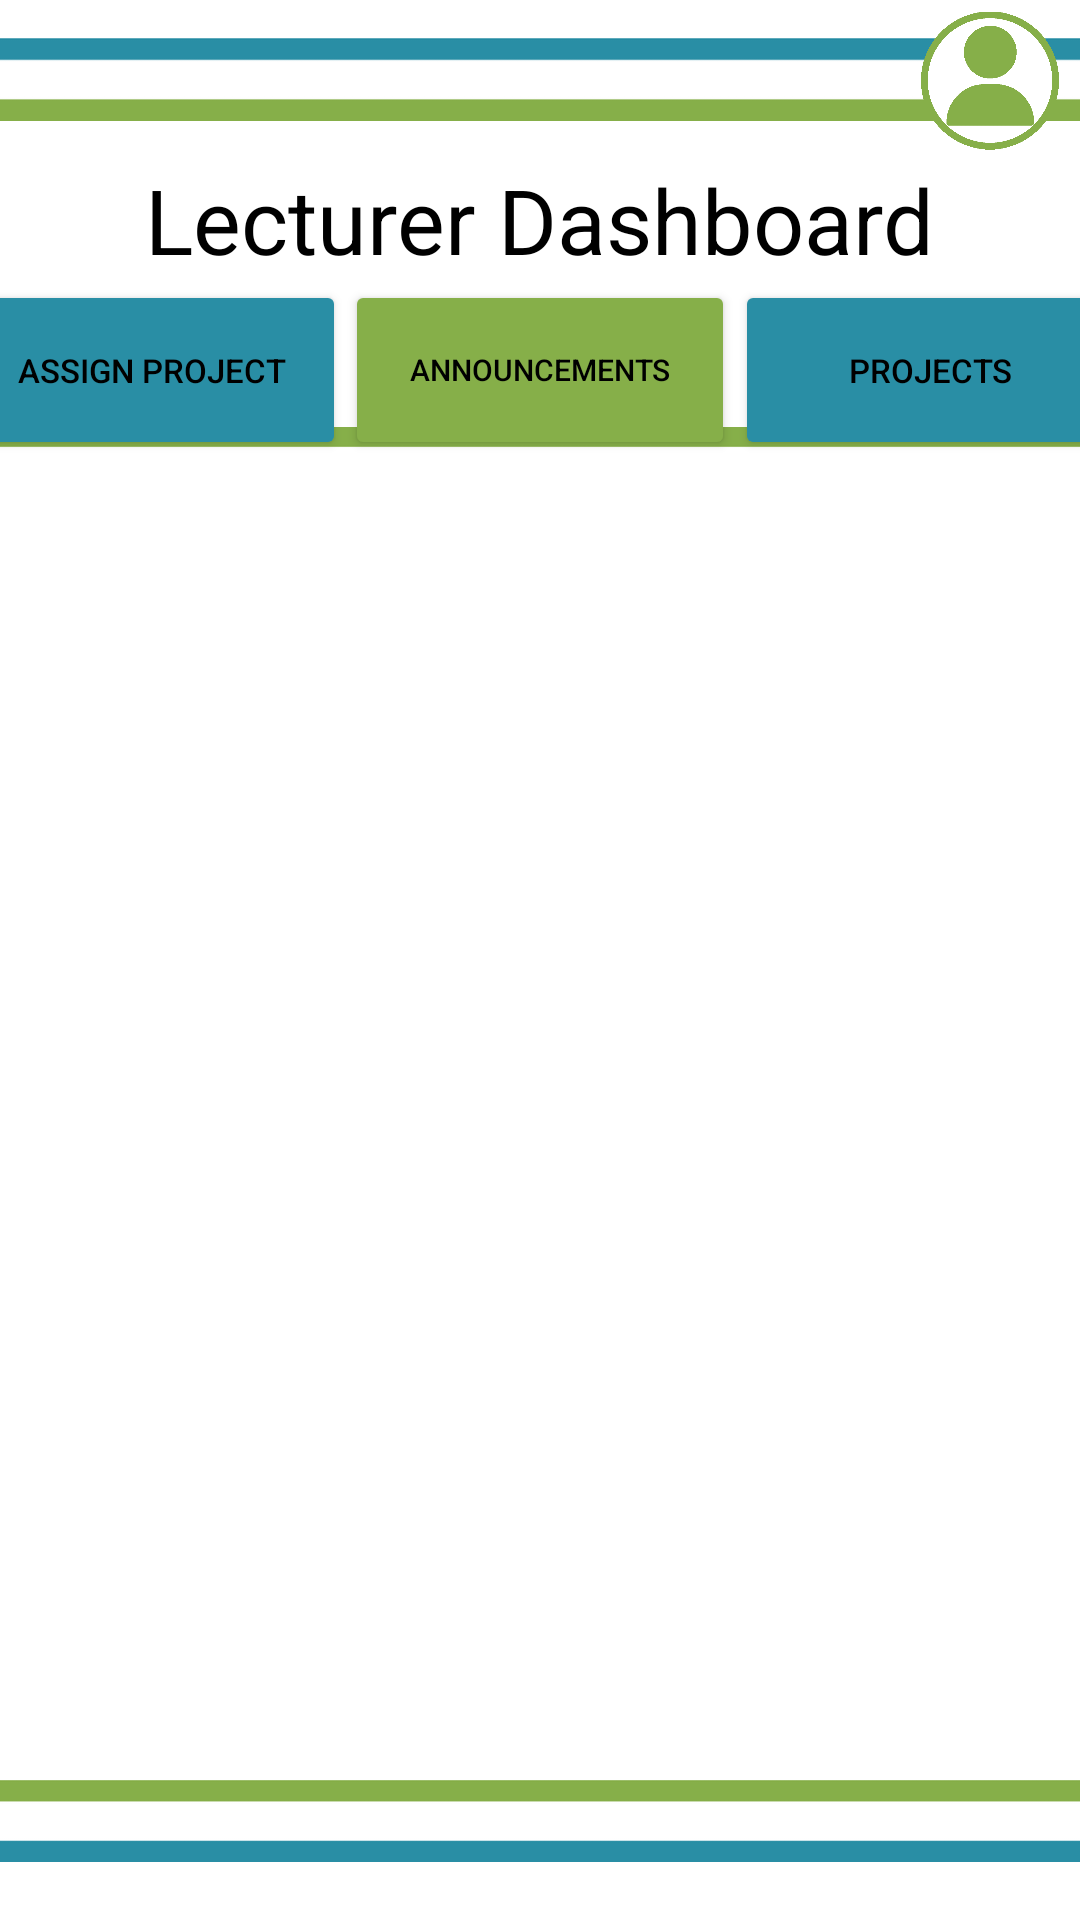

Where icons sit on this 1080*1920 app screen, as (x1, y1, x2, y2):
user: (921, 12, 1059, 150)
